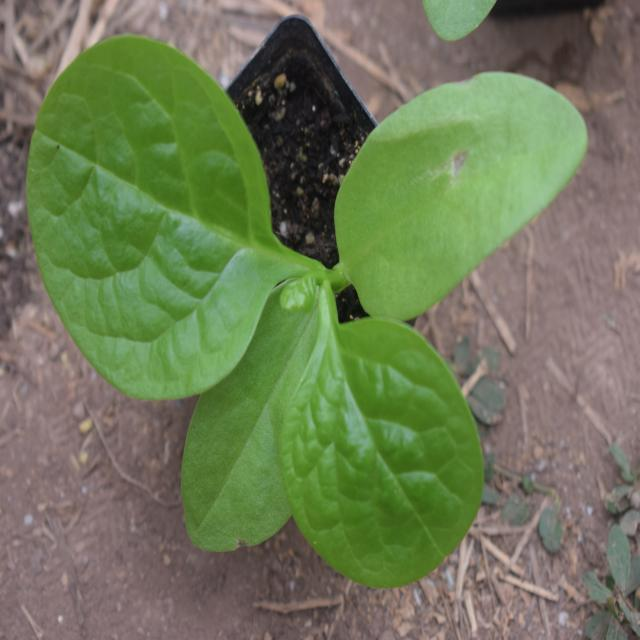Ceylon spinach: (27, 41, 522, 566)
